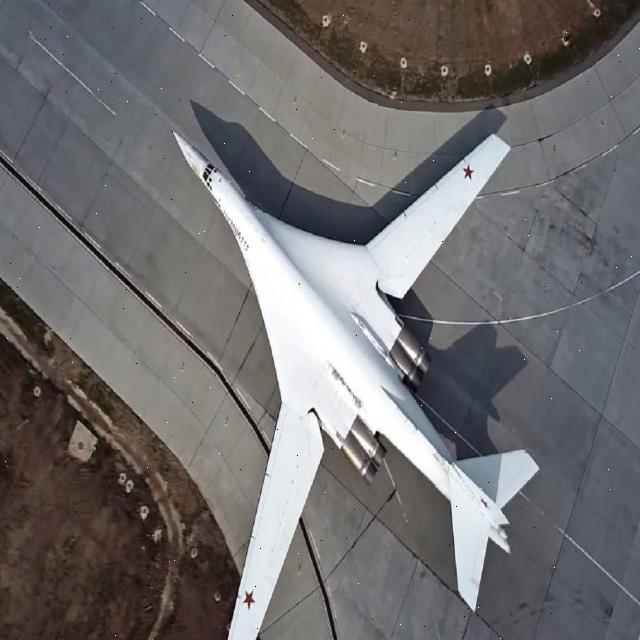Tu160: (139, 74, 560, 640)
